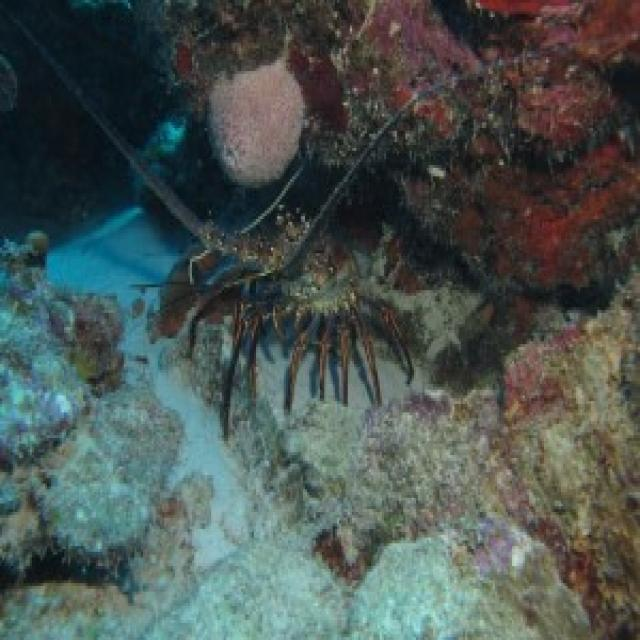lobsters: (12, 0, 520, 432)
